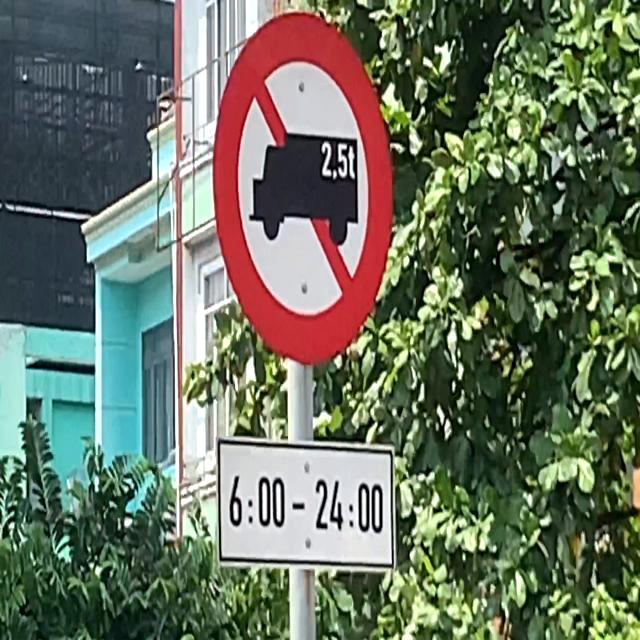Cam xe tai tren 2_5: (209, 2, 398, 380)
